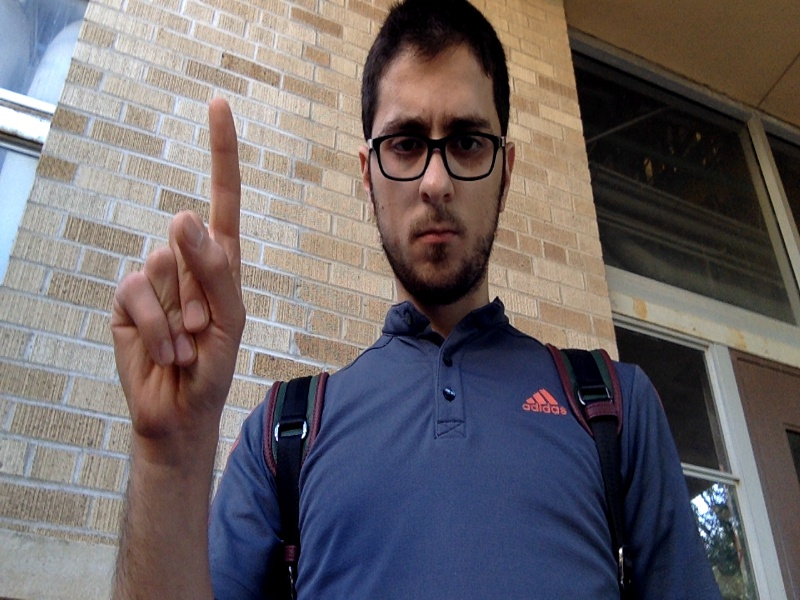1-hand: (113, 98, 245, 434)
